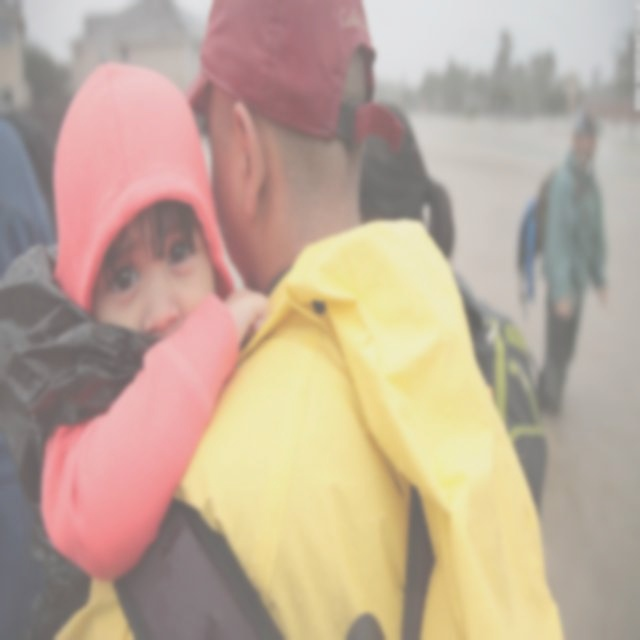pessoa: (47, 0, 568, 639), (0, 59, 275, 639), (535, 103, 611, 418), (5, 11, 74, 330), (358, 99, 456, 263)
